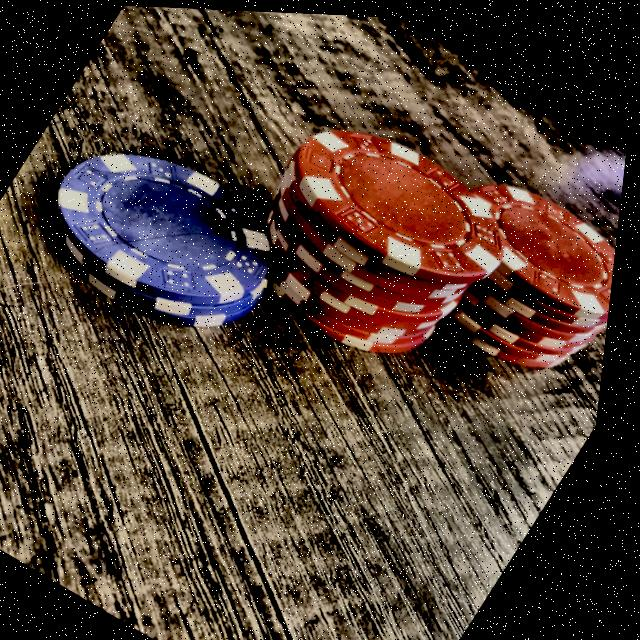Chip: (216, 94, 541, 388), (17, 111, 318, 364), (396, 155, 628, 401)
